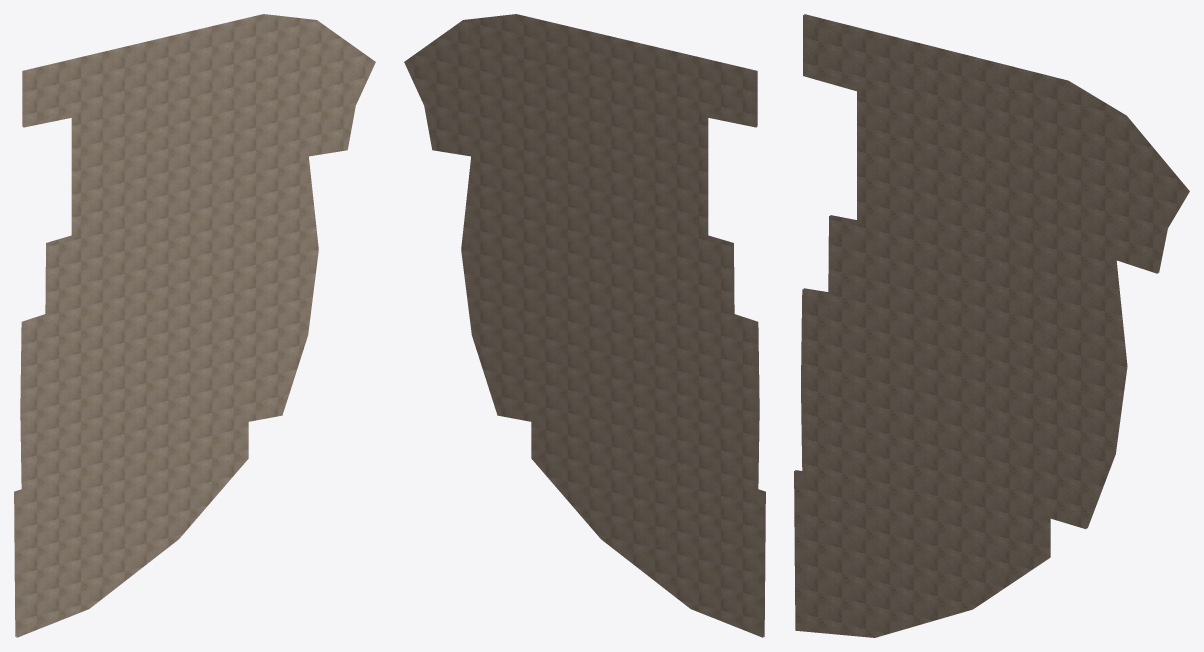
The model's file is floor_43.obj.
3 renders of one model, left to right at view 1: azimuth 30°, elevation 25°; view 2: azimuth 150°, elevation 25°; view 3: azimuth 330°, elevation 25°, orthographic. The views are drawn at different scales.
Visible parts, largest first — view 1: floor_43; view 2: floor_43; view 3: floor_43.
Part boxes in pixels (box(x1,y1,x2,y2)): floor_43: box(14, 14, 375, 637); floor_43: box(404, 14, 765, 637); floor_43: box(794, 14, 1189, 637).
Size of the model in its own units: 16.48 by 24.66 by 0.1.
1 material, 1 textured.
